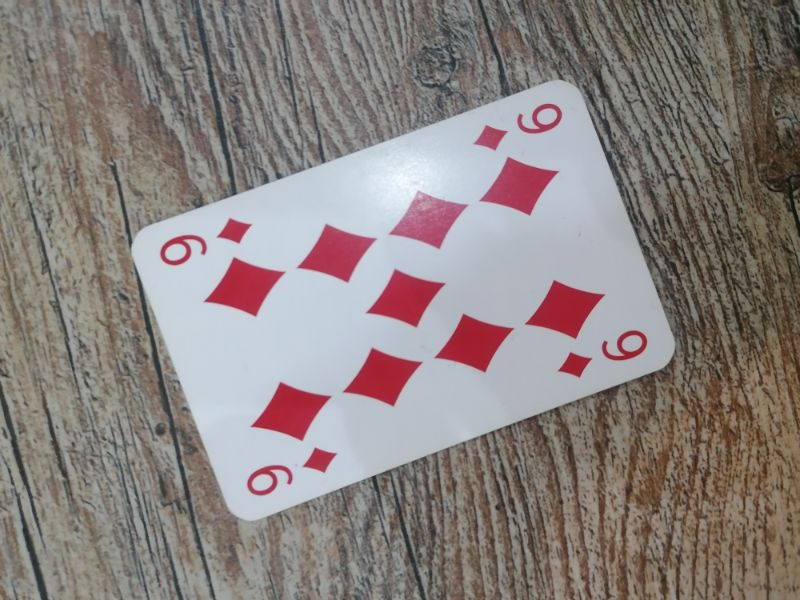9d: (244, 443, 341, 501), (156, 216, 260, 269), (471, 100, 567, 155), (556, 328, 650, 383)
